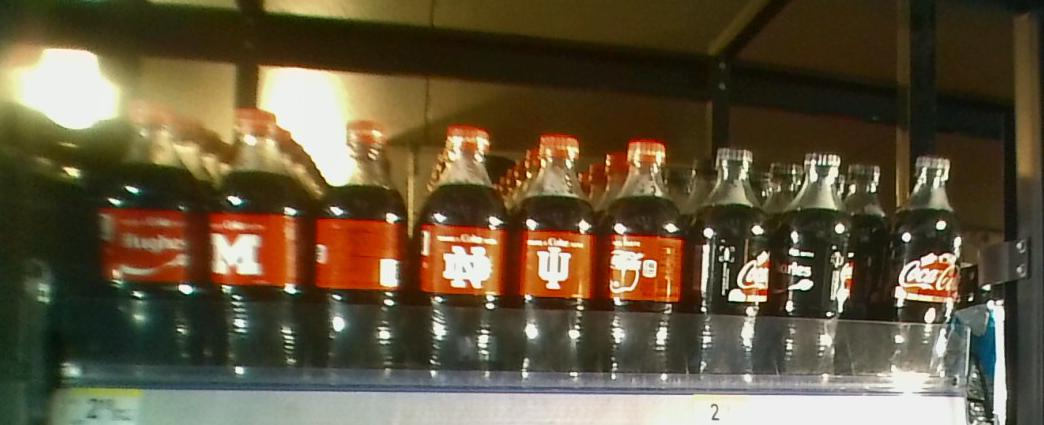bottle: (88, 89, 211, 371), (312, 100, 414, 381), (213, 101, 313, 373), (414, 101, 507, 388), (506, 100, 598, 389), (598, 102, 682, 391), (684, 128, 776, 382), (776, 132, 854, 392), (883, 146, 961, 397)
